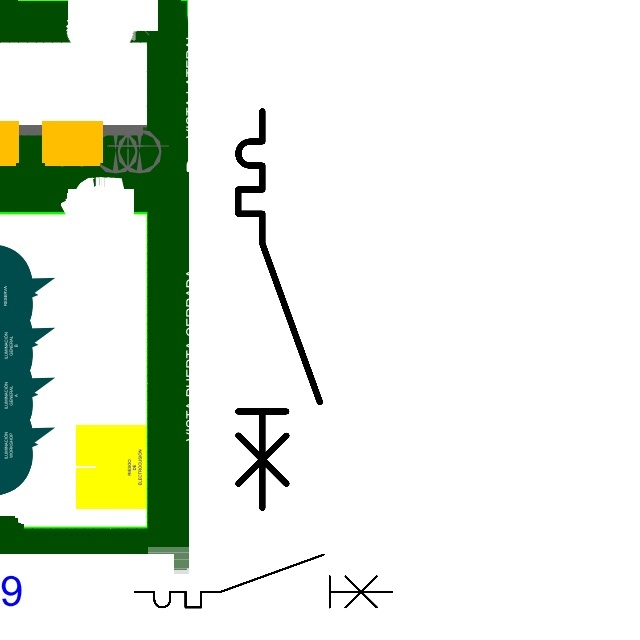interruptor_termomagnetico: (228, 101, 330, 518), (128, 548, 399, 614)
